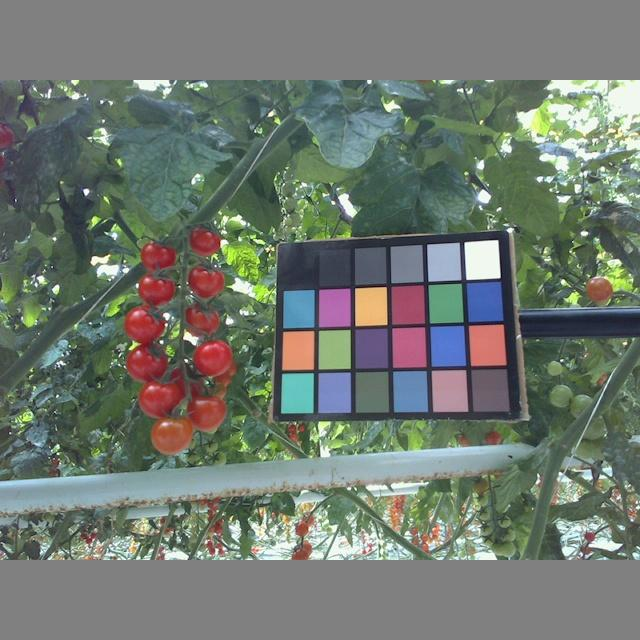green: (546, 381, 573, 408), (574, 392, 595, 420), (547, 359, 563, 377)
pink: (183, 395, 226, 434), (150, 415, 191, 455), (587, 276, 615, 302)
red: (135, 377, 180, 419), (125, 341, 169, 383), (190, 339, 233, 378), (123, 303, 164, 342), (179, 304, 220, 339), (186, 264, 225, 298), (137, 270, 174, 304), (142, 238, 176, 274), (187, 223, 221, 257)
